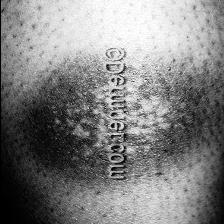Toxin: (32, 56, 104, 177), (125, 59, 198, 177)
